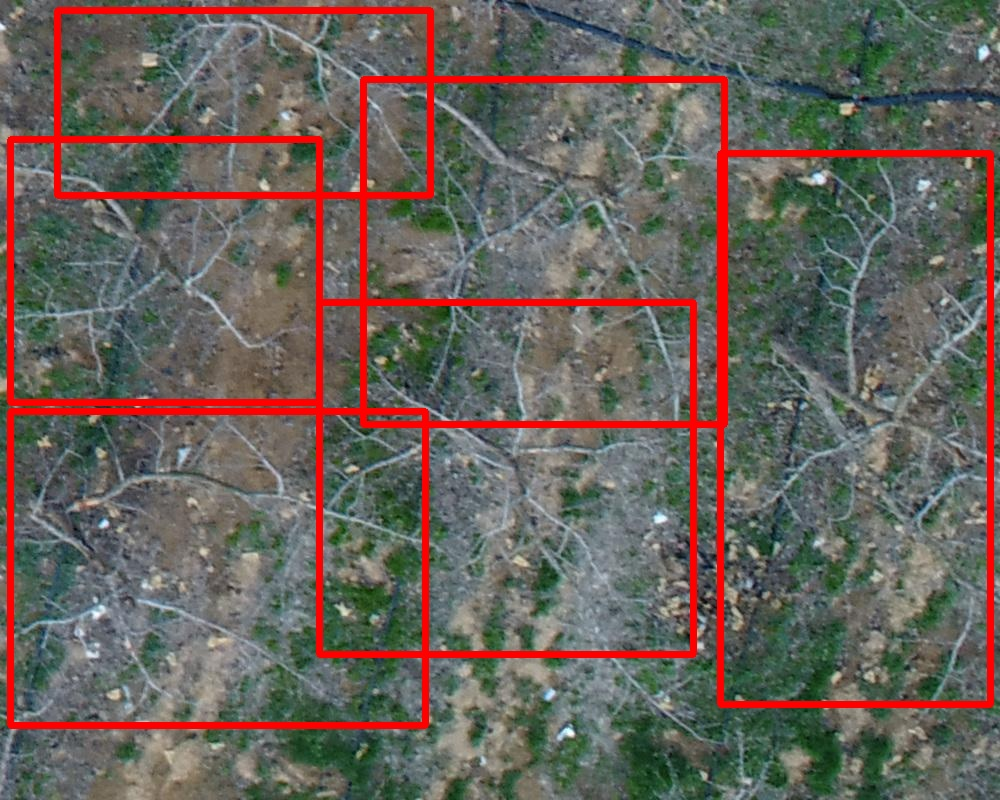apple: (720, 153, 990, 704), (319, 302, 693, 654), (10, 411, 425, 725), (363, 79, 724, 424), (10, 139, 319, 402), (57, 10, 430, 195)
